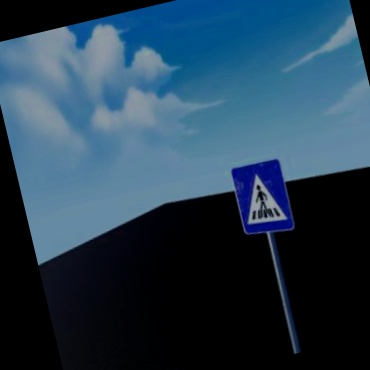crosswalk: (230, 157, 297, 241)
